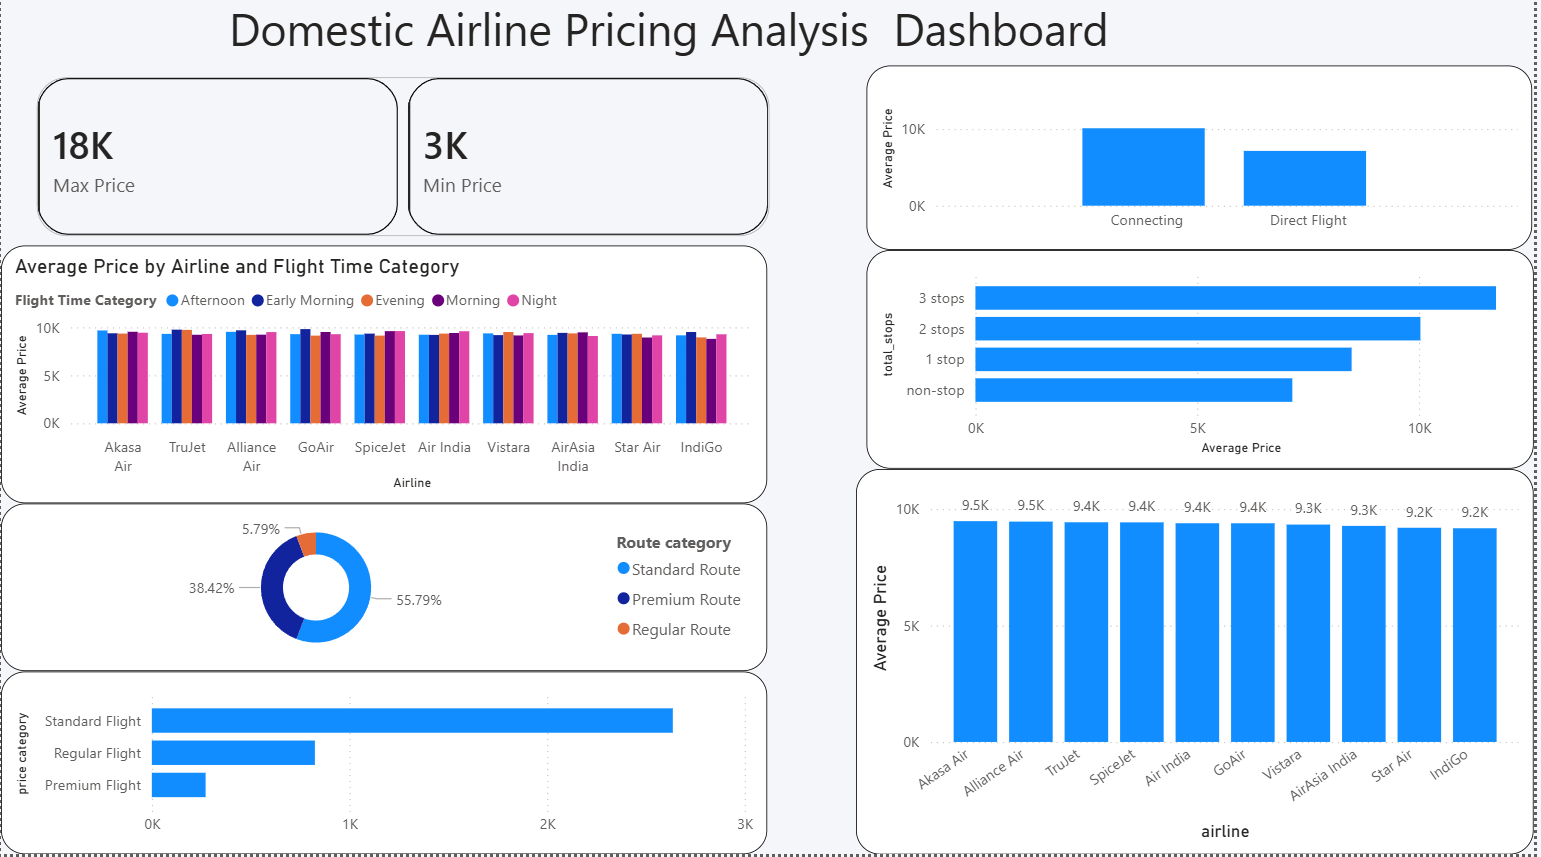

What the dashboard file says about the page in this screenshot:
{"tool":"powerbi","page":{"name":"Page 2","canvas":[1280,720],"ordinal":1},"visuals":[{"type":"cardVisual","fields":{"Data":["project flights.Max Price","project flights.Min Price"]},"box":[12.5,53.9,646.5,167.9],"z":0},{"type":"barChart","fields":{"Category":["project flight category.price category"],"Y":["CountNonNull(project flight category.price category)"]},"box":[0,567.6,640.2,152.9],"z":1000},{"type":"clusteredBarChart","fields":{"Category":["project avg per stop.total_stops"],"Y":["Sum(project avg per stop.Average Price)"]},"box":[722.9,215.5,557.6,182.9],"z":2000},{"type":"textbox","box":[398.4,205.5,369.6,32.6],"z":3000},{"type":"textbox","box":[184.8,0,881.8,69.7],"z":4000},{"type":"textbox","box":[385.9,427.2,152.9,37.6],"z":6000},{"type":"clusteredColumnChart","fields":{"Category":["project airline.airline"],"Series":["project airline.Flight Time Category"],"Y":["Sum(project airline.Average Price)"]},"box":[0,211.7,640.2,215.5],"z":7000},{"type":"clusteredColumnChart","fields":{"Category":["project flight   type.Flight Type"],"Y":["Sum(project flight   type.Average Price)"]},"box":[722.9,61.4,556.3,154.1],"z":8000},{"type":"donutChart","fields":{"Category":["project route -   category.Route category"],"Y":["CountNonNull(project route -   category.Route category)"]},"box":[0,427.2,640.2,140.3],"z":9000},{"type":"columnChart","title":"Average Price by airline","fields":{"Category":["project avg price per airline.airline"],"Y":["Sum(project avg price per airline.Average Price)"]},"box":[714.2,398.4,566.3,322],"z":9001}]}

Visuals, with their boxes in screenshot pixels (x1, y1, x2, y2), scaled from the page's 1280x720 canvas onto the 1541x857 screenshot:
cardVisual - project flights.Max Price x project flights.Min Price: <region>15, 64, 793, 264</region>
barChart - project flight category.price category x CountNonNull(project flight category.price category): <region>0, 676, 771, 856</region>
clusteredBarChart - project avg per stop.total_stops x Sum(project avg per stop.Average Price): <region>870, 257, 1540, 474</region>
textbox: <region>480, 245, 925, 283</region>
textbox: <region>222, 0, 1284, 83</region>
textbox: <region>465, 508, 649, 553</region>
clusteredColumnChart - project airline.airline x project airline.Flight Time Category: <region>0, 252, 771, 508</region>
clusteredColumnChart - project flight   type.Flight Type x Sum(project flight   type.Average Price): <region>870, 73, 1540, 257</region>
donutChart - project route -   category.Route category x CountNonNull(project route -   category.Route category): <region>0, 508, 771, 675</region>
"Average Price by airline" columnChart: <region>860, 474, 1540, 856</region>
